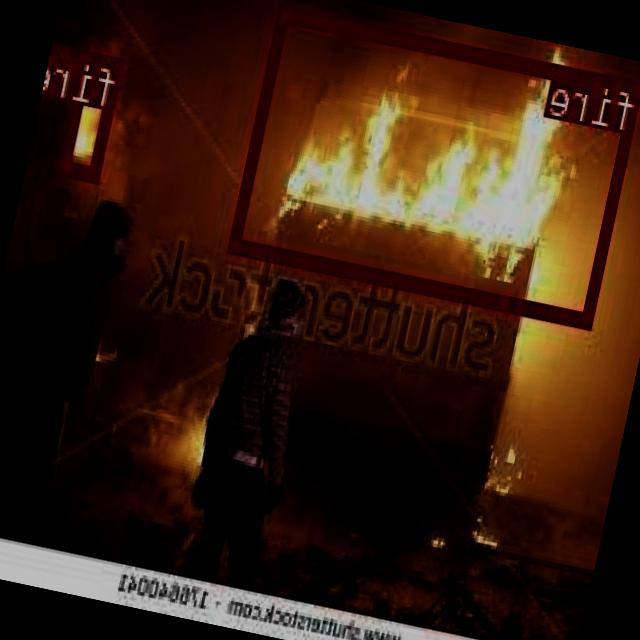fire: (230, 2, 640, 326), (59, 49, 128, 179)
